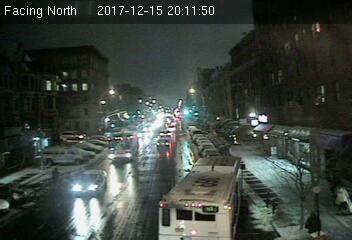bus: (155, 155, 242, 238), (107, 133, 138, 159)
car: (72, 170, 106, 194), (156, 138, 169, 147)
